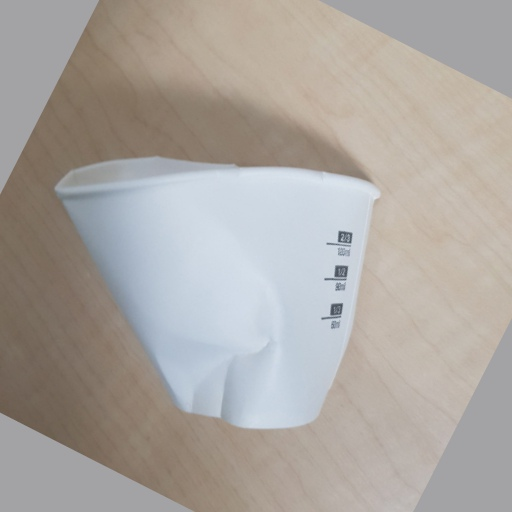Paper_1: (50, 152, 378, 431)
